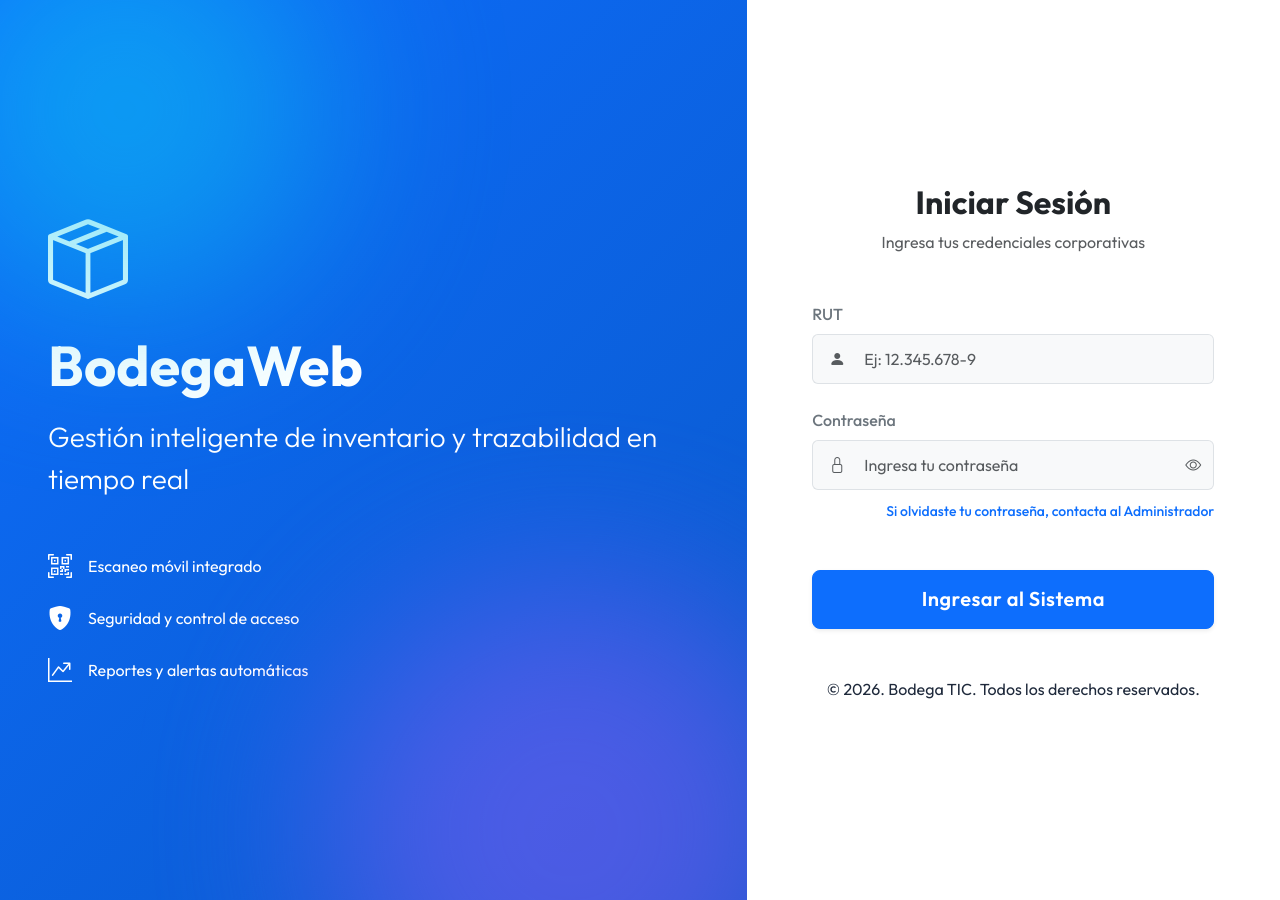
Test: LoginPage Crítico › Debería actualizar y formatear automáticamente el RUT al tipear
This screenshot has width=1280, height=900.
// Act: Simulamos que el usuario teclea números "en bruto" dentro del campo RUT
In the field with placeholder "Ej: 12.345.678-9": (1037, 359) [860,334,1214,384], type "111111111"
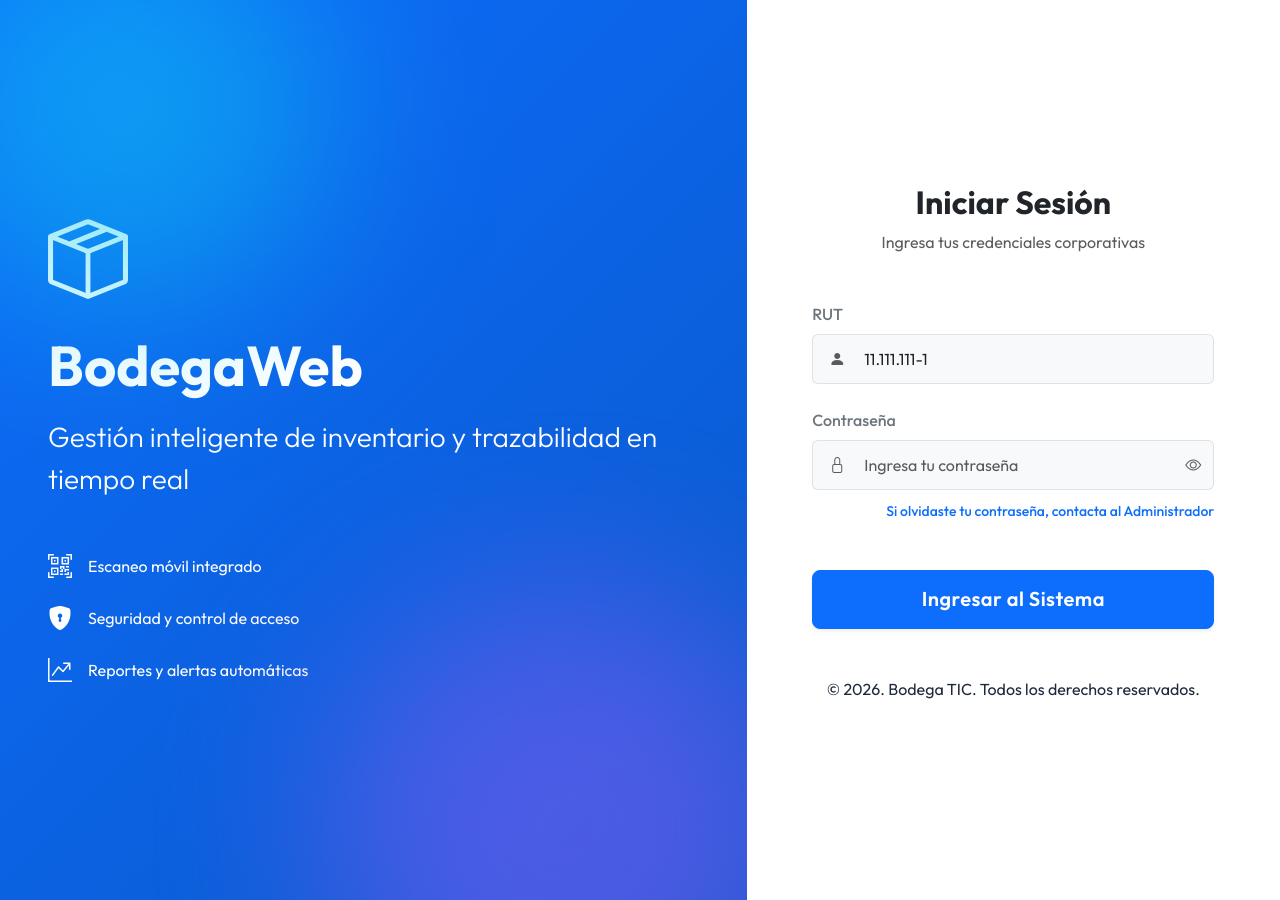
expect the field with placeholder "Ej: 12.345.678-9" holds "11.111.111-1": met, box [860,334,1214,384]
